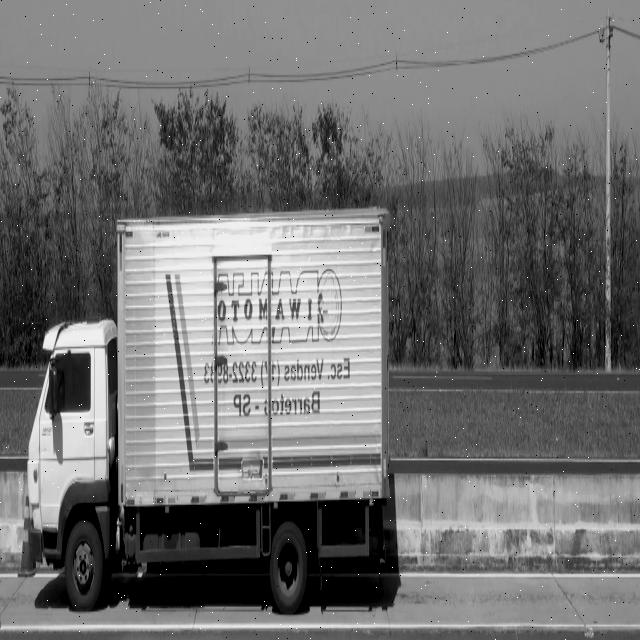-axle: (63, 517, 104, 612), (270, 524, 306, 615)
